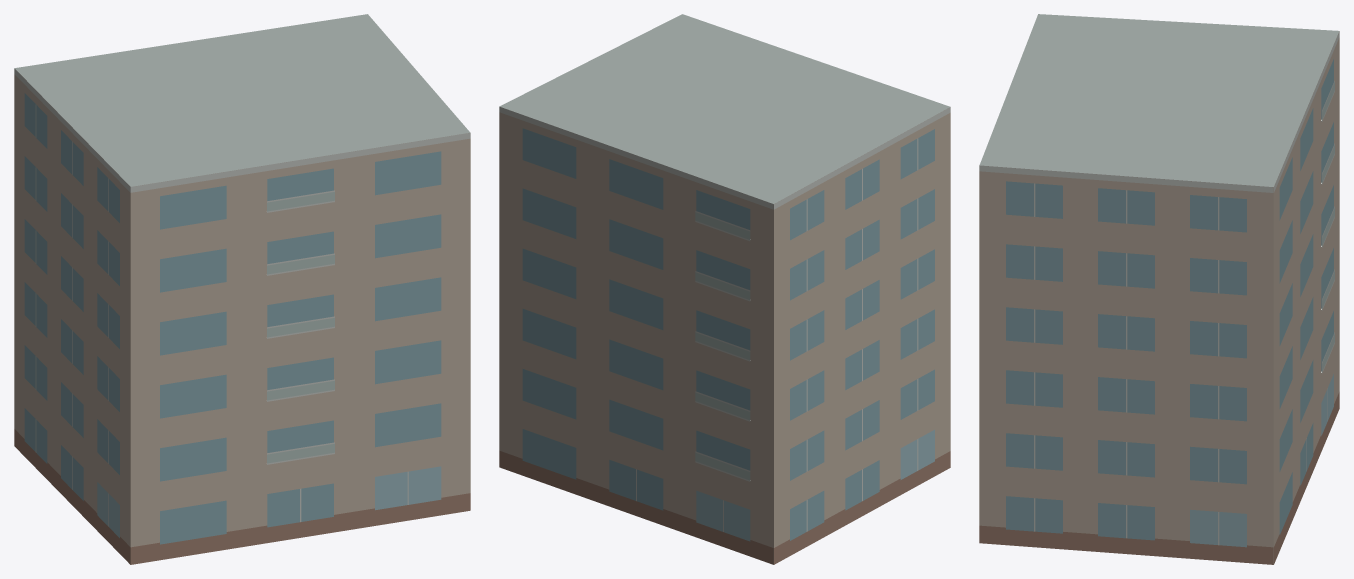
Rendered from survey-upis-33012356.glb.
The picture shows the model from 3 angles, left to right: view 1: azimuth 30°, elevation 25°; view 2: azimuth 150°, elevation 25°; view 3: azimuth 270°, elevation 25°; orthographic projection. The views are drawn at different scales.
Visible parts, largest first — view 1: survey-upis-33012356.tmp; view 2: survey-upis-33012356.tmp; view 3: survey-upis-33012356.tmp.
Boxes of the visible parts, x1,y1,x2,y2 form: survey-upis-33012356.tmp: [14, 14, 470, 564]; survey-upis-33012356.tmp: [499, 14, 950, 564]; survey-upis-33012356.tmp: [979, 14, 1339, 564].
Bounding box in the file's own units: 15.35 × 15.6 × 13.49.
